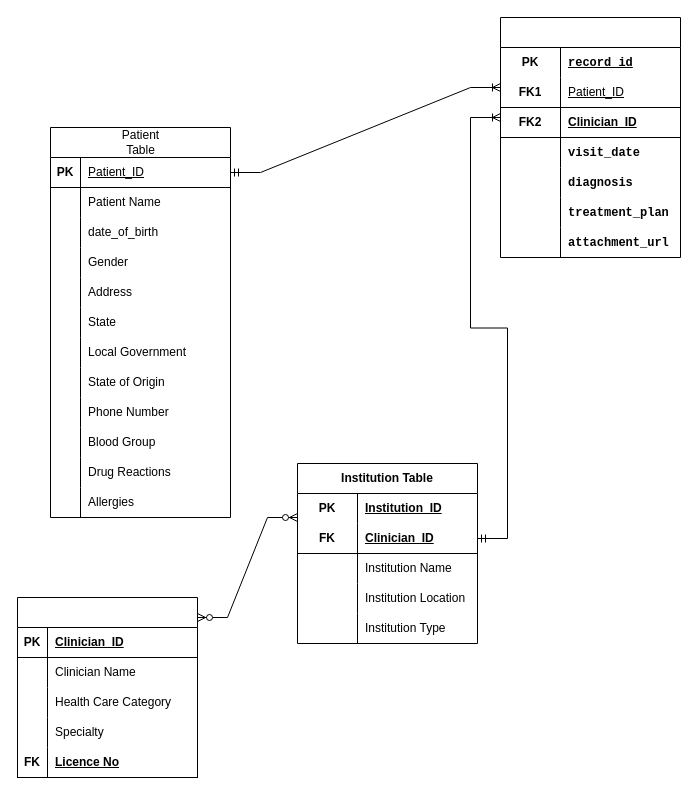
The diagram is 698 pixels wide and 795 high, and some of its shapes have lost their labels. The shapes that lost their labels are listed below. From the top down, each one's box as (x1, y1, x2, y2) in pixels, then its label:
(500, 16, 680, 258): Patient Record Table
(16, 596, 198, 778): Clinician Table
